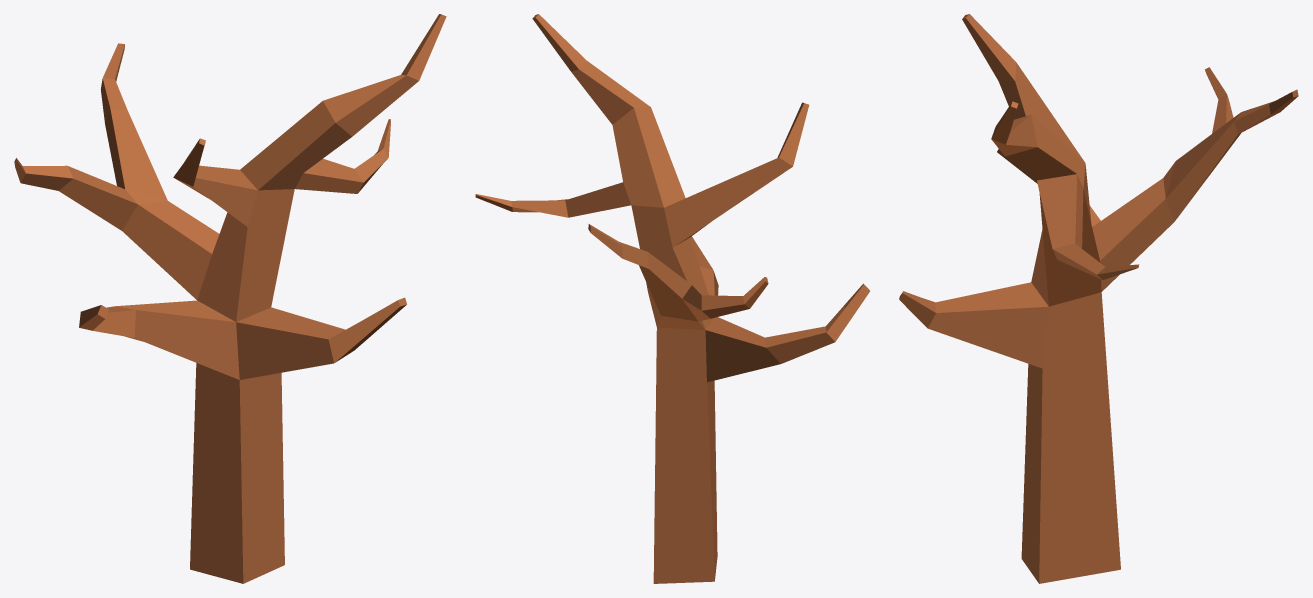
The model's file is TreeAutumn2_Alt2.fbx.
3 renders of one model, left to right at view 1: azimuth 30°, elevation 25°; view 2: azimuth 150°, elevation 25°; view 3: azimuth 270°, elevation 25°, orthographic. The views are drawn at different scales.
Visible parts, largest first — view 1: TreeAutumn2_Alt2; view 2: TreeAutumn2_Alt2; view 3: TreeAutumn2_Alt2.
Boxes of the visible parts, x1=… form: TreeAutumn2_Alt2: x1=14, y1=14, x2=446, y2=583; TreeAutumn2_Alt2: x1=475, y1=14, x2=869, y2=583; TreeAutumn2_Alt2: x1=899, y1=14, x2=1298, y2=583.
Bounding box in the file's own units: 1.31 × 1.84 × 1.19.
